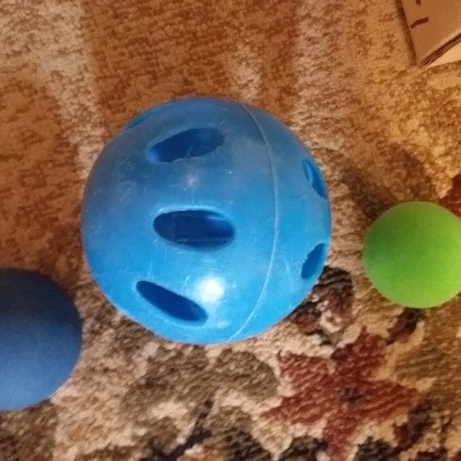blueball: (74, 95, 337, 352)
